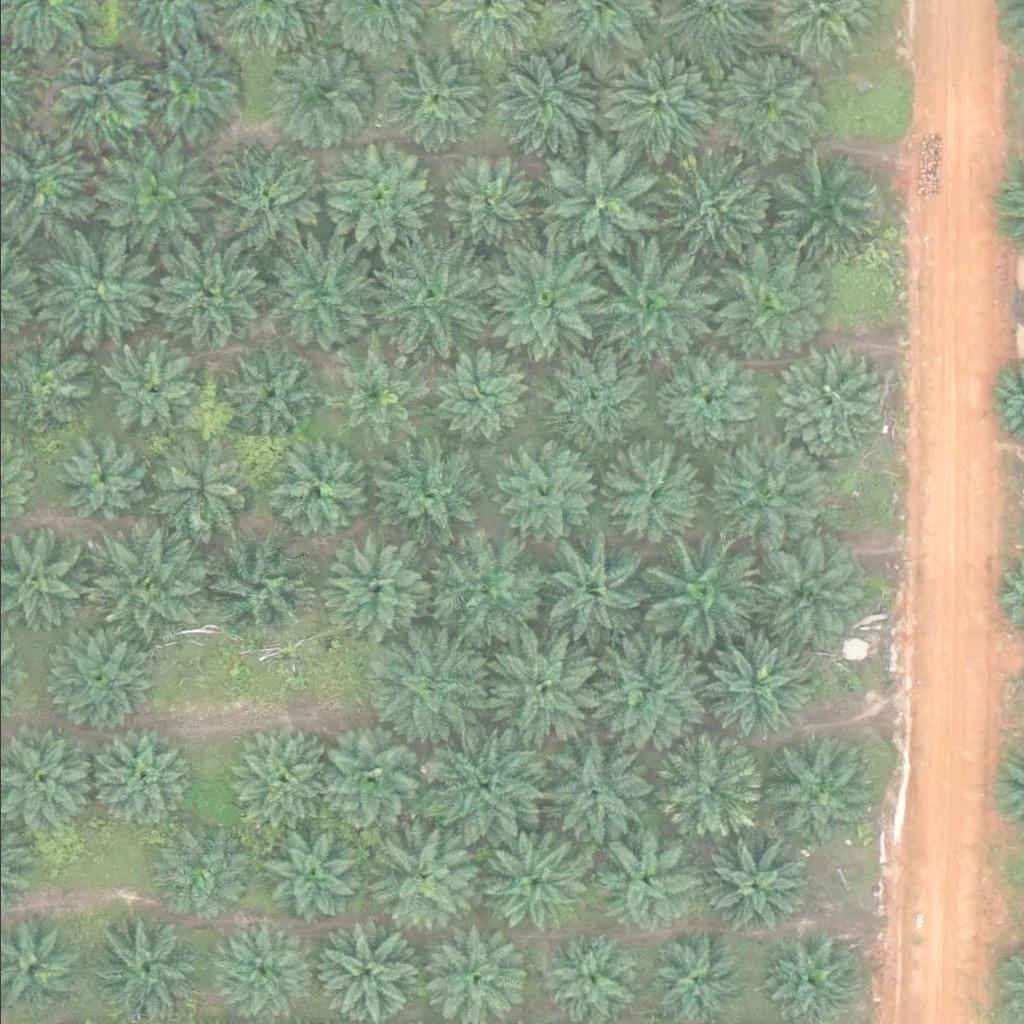Kelapa_Sawit: (40, 622, 154, 735), (762, 735, 876, 848), (698, 633, 812, 746), (489, 633, 603, 746), (429, 532, 543, 645), (488, 249, 602, 362), (544, 146, 658, 259), (372, 818, 485, 931), (435, 727, 548, 840), (649, 731, 762, 844), (585, 629, 698, 742), (371, 626, 484, 739), (648, 539, 761, 652), (374, 437, 487, 550), (78, 529, 191, 642), (767, 346, 880, 459), (706, 244, 819, 357), (30, 229, 143, 342), (98, 136, 211, 249), (214, 143, 327, 256), (325, 135, 438, 248), (710, 47, 823, 160), (606, 48, 719, 161), (374, 41, 487, 154), (266, 36, 379, 149), (132, 33, 245, 146), (582, 820, 696, 932), (538, 734, 652, 846), (709, 443, 823, 555), (259, 244, 373, 356), (310, 539, 423, 651), (535, 533, 648, 645), (747, 537, 860, 649), (207, 527, 320, 639), (539, 337, 652, 449), (591, 247, 704, 359), (371, 243, 484, 355), (154, 240, 267, 352), (770, 156, 883, 268), (659, 149, 772, 261), (481, 42, 594, 154), (95, 923, 196, 1023), (209, 917, 310, 1017), (699, 833, 800, 933), (479, 831, 580, 931), (150, 823, 251, 923), (85, 733, 186, 833), (322, 728, 423, 828), (606, 445, 707, 545), (260, 445, 361, 545), (149, 441, 250, 541), (225, 348, 326, 448), (433, 342, 534, 442), (665, 347, 766, 447), (47, 49, 148, 149), (260, 824, 360, 924), (232, 732, 332, 832), (496, 444, 596, 544), (102, 341, 202, 441), (327, 347, 427, 447), (438, 151, 538, 251), (56, 435, 144, 522)
